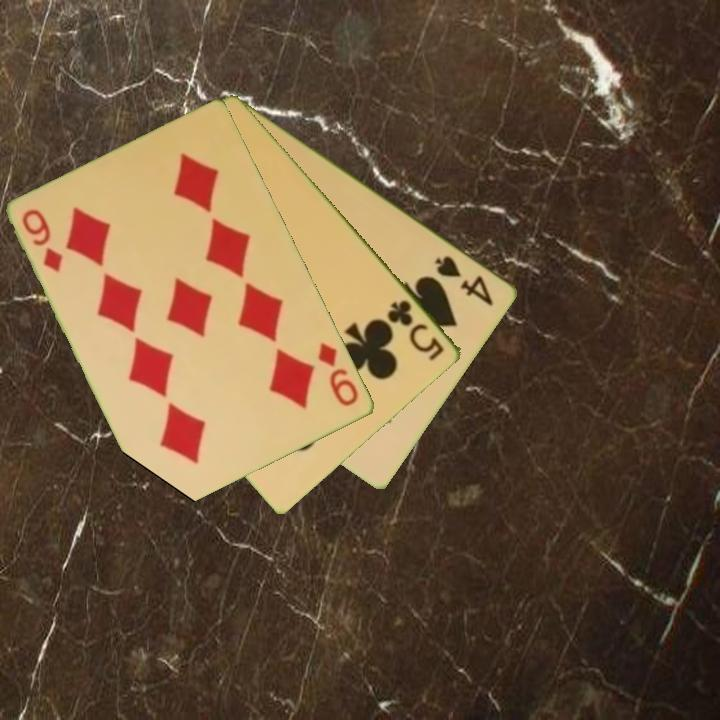4s: (432, 252, 497, 309)
5c: (384, 296, 448, 364)
9d: (18, 205, 66, 276), (315, 338, 362, 410)
